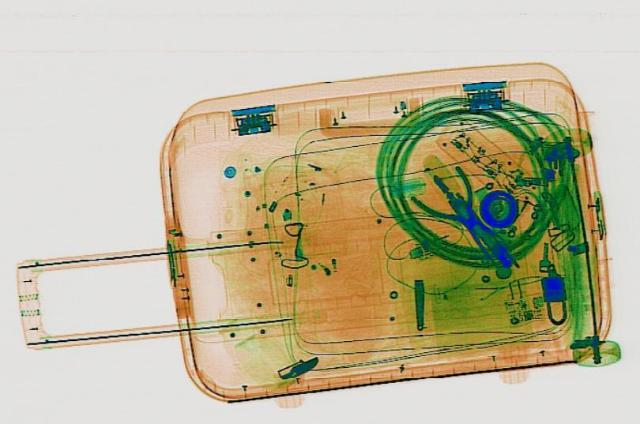Pliers: (397, 163, 531, 265)
